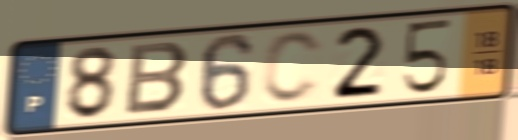2: (331, 24, 389, 101)
5: (400, 16, 456, 97)
6: (198, 31, 257, 114)
8: (65, 44, 121, 122)
B: (122, 40, 193, 118)
C: (259, 28, 326, 107)
